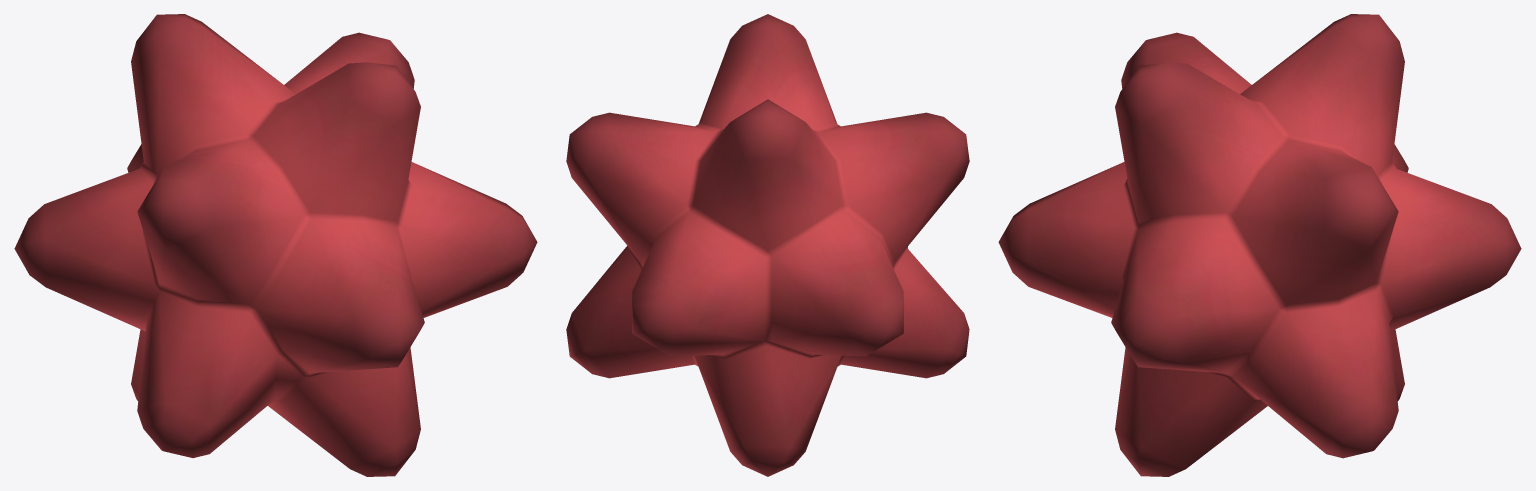
The model's file is cancer-fragment.glb.
3 views of the same model, side by side, from view 1: azimuth 30°, elevation 25°; view 2: azimuth 150°, elevation 25°; view 3: azimuth 270°, elevation 25° (orthographic). The views are drawn at different scales.
Size of the model in its own units: 3.1 by 3.05 by 3.52.
Materials: 1 (1 with a texture image).
